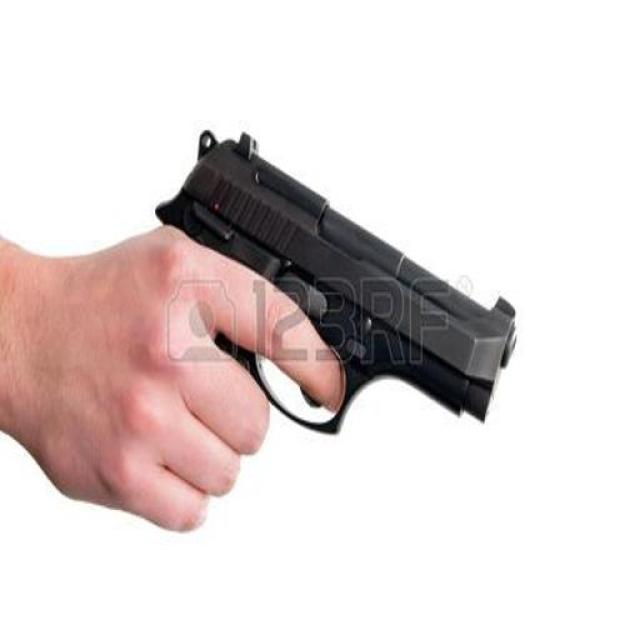pistol: (106, 116, 524, 494)
